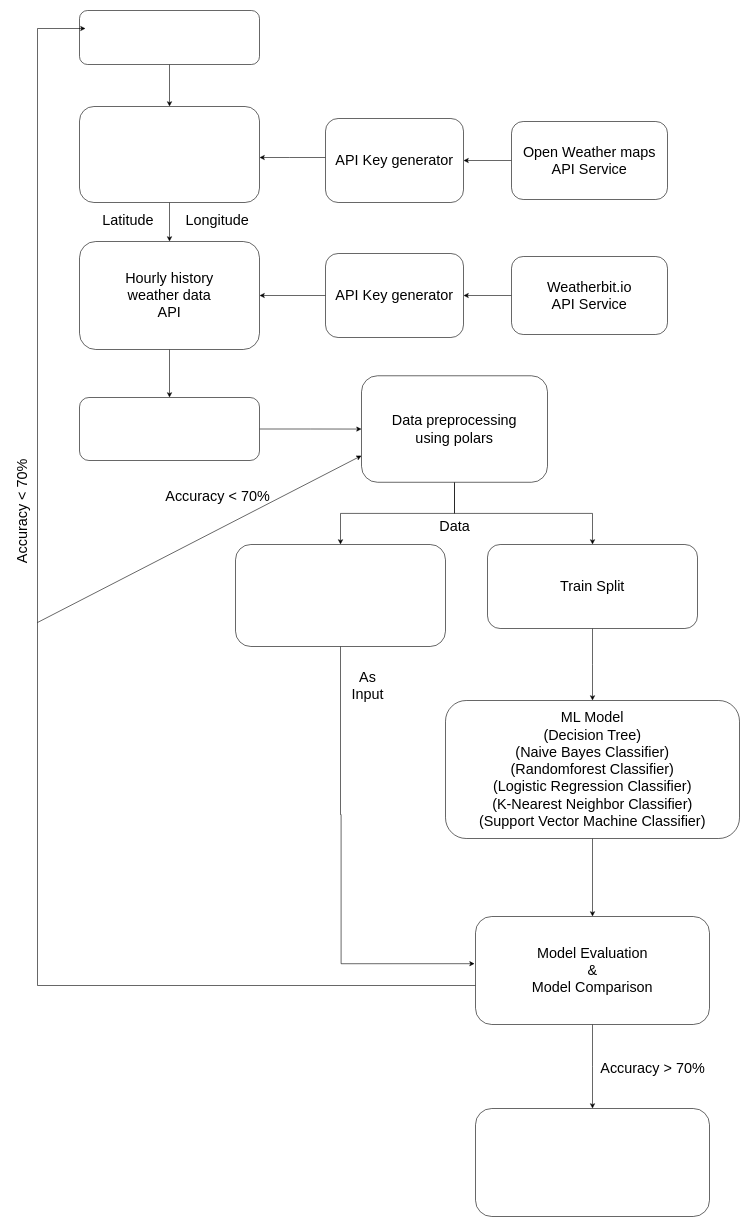
Image size: 750x1227. Some labels were removed from this diagram. The box of each missing label's shape, as (x1, y1, x2, y2) in pixels:
Data Collection: (79, 397, 260, 460)
geo - encoding API to get latitude and longitude: (79, 106, 260, 202)
Model Deploy: (475, 1108, 710, 1216)
Places for Data: (79, 10, 260, 64)
Test Split: (235, 544, 446, 646)
